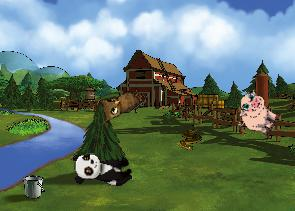owl: (92, 76, 146, 127)
panda: (72, 152, 133, 186)
pig: (230, 87, 285, 140)
